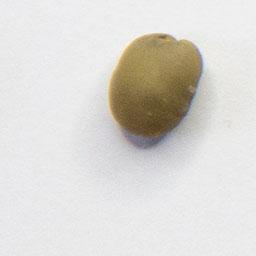peaberry: (105, 30, 206, 141)
